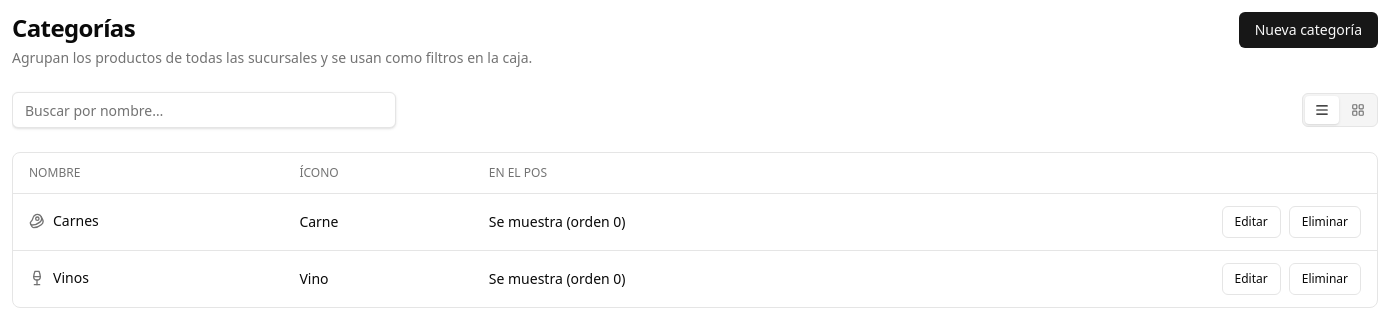
Scenario: CategoriesScreen › asks for confirmation before deleting, then deletes and removes the row
Expected: the text "Carnes" is shown, [53,210,99,230]
Click the button "Eliminar" in the row of "Carnes": coordinates (1325, 222) [1289,206,1361,238]
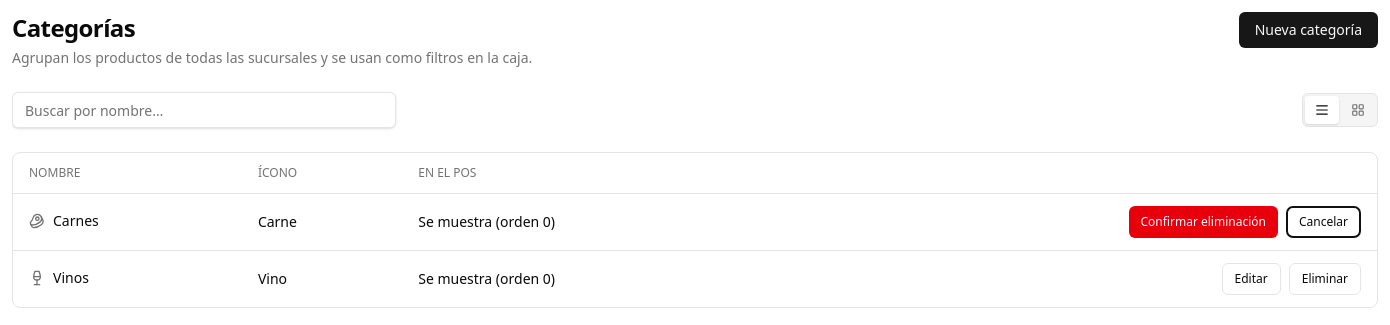
Click the button "Confirmar eliminación": coordinates (1203, 222) [1128,206,1278,238]
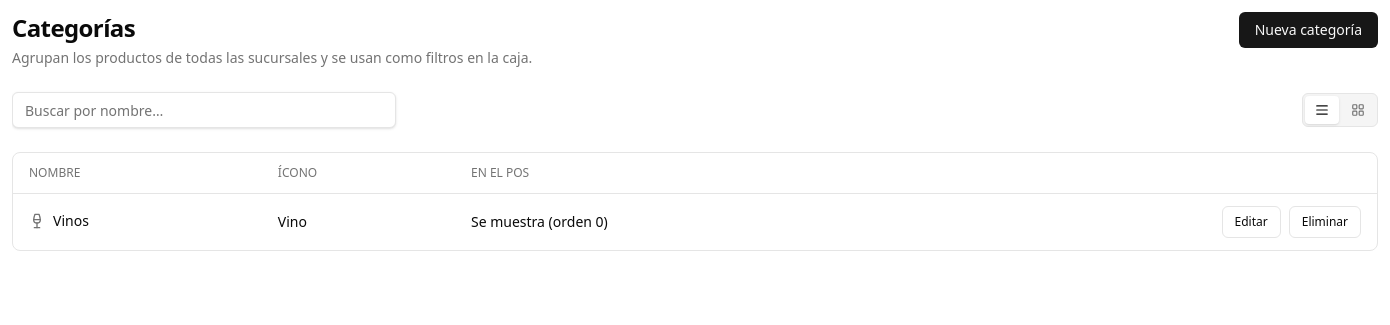
Now the text "Carnes" is gone
